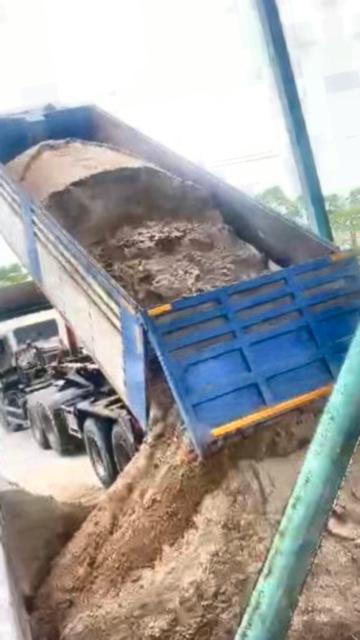sand: (35, 382, 315, 640), (6, 140, 268, 305), (284, 396, 360, 640), (0, 487, 91, 599)
